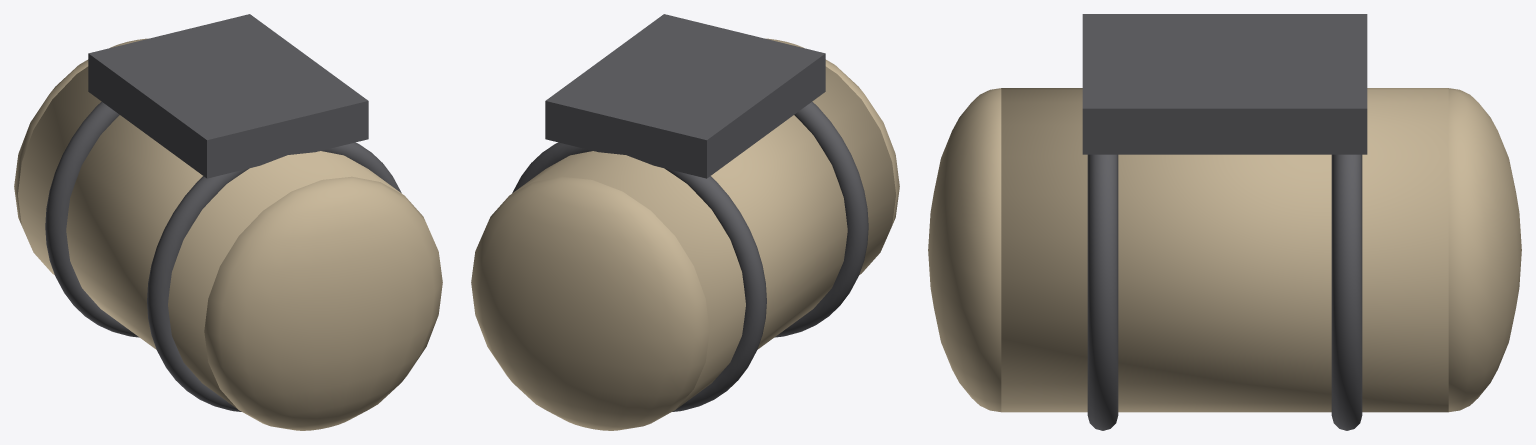
File: buoy.glb
3 renders of one model, left to right at view 1: azimuth 30°, elevation 25°; view 2: azimuth 150°, elevation 25°; view 3: azimuth 270°, elevation 25°, orthographic. The views are drawn at different scales.
Parts seen in each view (by area): view 1: Buoy; view 2: Buoy; view 3: Buoy.
Part boxes in pixels (box(x1,y1,x2,y2)): Buoy: box(14, 14, 442, 430); Buoy: box(471, 14, 899, 430); Buoy: box(928, 14, 1521, 430).
Bounding box in the file's own units: 0.356 × 0.383 × 0.584.
